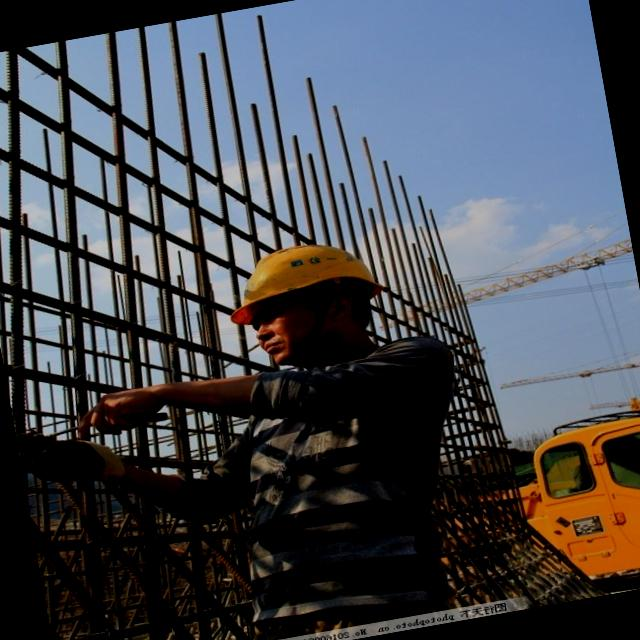helmet: (213, 229, 378, 316)
no-vest: (186, 335, 492, 635)
